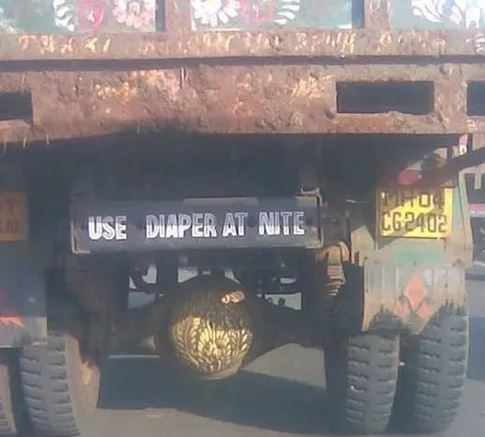number_plate: (374, 183, 456, 242)
